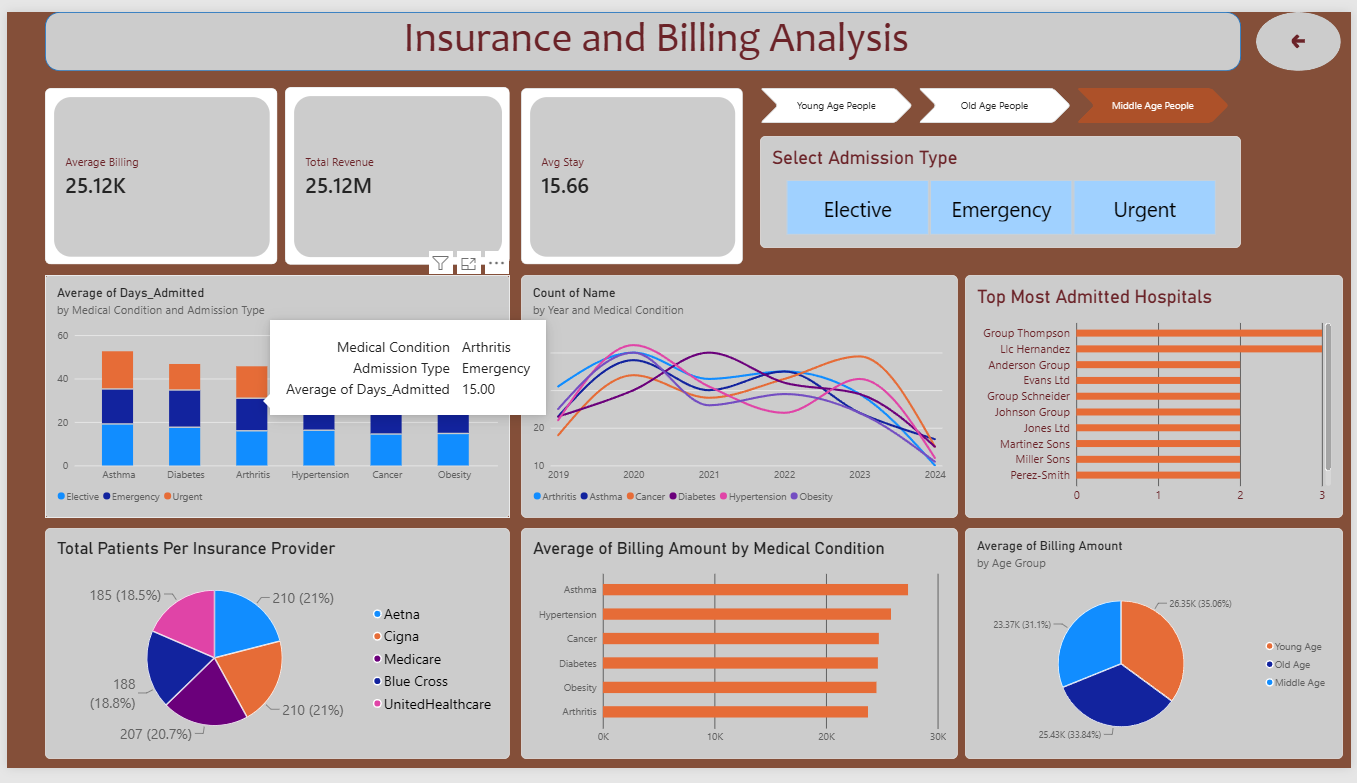

The dashboard page shown, as its layout file describes it:
{"tool":"powerbi","page":{"name":"Insurance and Billing Analysis","canvas":[1920,1080],"ordinal":1},"visuals":[{"type":"shape","box":[54.3,0,1708.6,84.3],"z":0},{"type":"textbox","box":[284.3,0,1285.7,94.3],"z":1000},{"type":"cardVisual","fields":{"Data":["Healthcare.Avg Billing"]},"box":[54.3,108.6,332.9,252.9],"z":2000},{"type":"cardVisual","fields":{"Data":["Healthcare.Avg Stay"]},"box":[734.3,108.6,317.1,252.9],"z":3000},{"type":"cardVisual","fields":{"Data":["Healthcare.Total Revenue"]},"box":[397.1,107.1,321.4,254.3],"z":4000},{"type":"columnChart","fields":{"Category":["Healthcare.Medical Condition"],"Series":["Healthcare.Admission Type"],"Y":["Avg(Healthcare.Days_Admitted)"]},"box":[54.3,375.7,664.3,347.1],"z":5000},{"type":"lineChart","fields":{"Category":["Healthcare.Date of Admission.Variation.Date Hierarchy.Year","Healthcare.Date of Admission.Variation.Date Hierarchy.Quarter","Healthcare.Date of Admission.Variation.Date Hierarchy.Month","Healthcare.Date of Admission.Variation.Date Hierarchy.Day"],"Series":["Healthcare.Medical Condition"],"Y":["CountNonNull(Healthcare.Name)"]},"box":[734.3,375.7,624.3,347.1],"z":6000},{"type":"pieChart","title":"Total Patients Per Insurance Provider","fields":{"Category":["Healthcare.Insurance Provider"],"Y":["CountNonNull(Healthcare.Name)"]},"box":[54.3,737.1,664.3,330],"z":7000},{"type":"barChart","fields":{"Category":["Healthcare.Medical Condition"],"Y":["Avg(Healthcare.Billing Amount)"]},"box":[734.3,737.1,624.3,330],"z":8000},{"type":"pieChart","fields":{"Category":["Healthcare.Age Group"],"Y":["Avg(Healthcare.Billing Amount)"]},"box":[1368.6,737.1,540,330],"z":9000},{"type":"barChart","title":"Top Most Admitted Hospitals","fields":{"Category":["Healthcare.Hospital"],"Y":["Healthcare.Admissions Count"]},"box":[1368.6,375.7,540,347.1],"z":10000},{"type":"actionButton","box":[1784.3,0,121.4,84.3],"z":11000},{"type":"bookmarkNavigator","box":[1075.7,108.6,672.9,50],"z":12000},{"type":"slicer","title":"Select Admission Type","fields":{"Values":["Healthcare.Admission Type"]},"box":[1075.7,177.1,687.1,160],"z":13000}]}

Visuals, with their boxes in screenshot pixels (x1, y1, x2, y2), scaled from the page's 1920x1080 canvas onto the 1357x783 screenshot:
shape: pyautogui.locateOnScreen(38, 0, 1246, 61)
textbox: pyautogui.locateOnScreen(201, 0, 1110, 68)
cardVisual - Healthcare.Avg Billing: pyautogui.locateOnScreen(38, 79, 274, 262)
cardVisual - Healthcare.Avg Stay: pyautogui.locateOnScreen(519, 79, 743, 262)
cardVisual - Healthcare.Total Revenue: pyautogui.locateOnScreen(281, 78, 508, 262)
columnChart - Healthcare.Medical Condition x Healthcare.Admission Type: pyautogui.locateOnScreen(38, 272, 508, 524)
lineChart - Healthcare.Date of Admission.Variation.Date Hierarchy.Year x Healthcare.Date of Admission.Variation.Date Hierarchy.Quarter: pyautogui.locateOnScreen(519, 272, 960, 524)
"Total Patients Per Insurance Provider" pieChart: pyautogui.locateOnScreen(38, 534, 508, 774)
barChart - Healthcare.Medical Condition x Avg(Healthcare.Billing Amount): pyautogui.locateOnScreen(519, 534, 960, 774)
pieChart - Healthcare.Age Group x Avg(Healthcare.Billing Amount): pyautogui.locateOnScreen(967, 534, 1349, 774)
"Top Most Admitted Hospitals" barChart: pyautogui.locateOnScreen(967, 272, 1349, 524)
actionButton: pyautogui.locateOnScreen(1261, 0, 1347, 61)
bookmarkNavigator: pyautogui.locateOnScreen(760, 79, 1236, 115)
"Select Admission Type" slicer: pyautogui.locateOnScreen(760, 128, 1246, 244)
